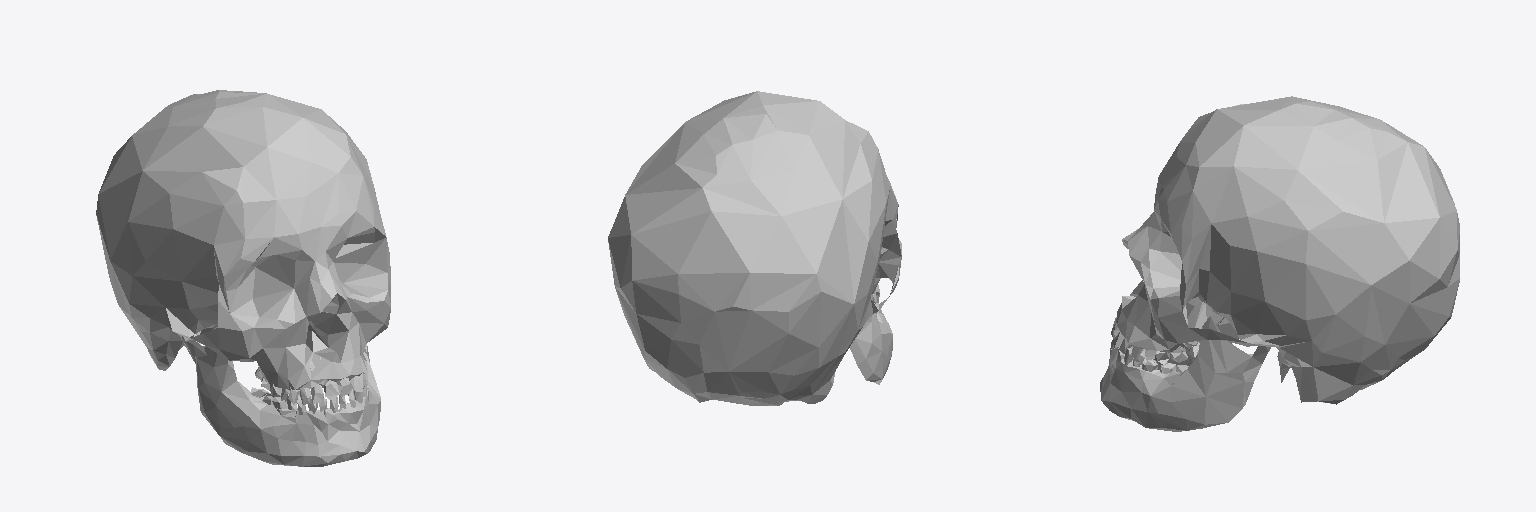
File: skull_good.obj
The picture shows the model from 3 angles: view 1: azimuth 30°, elevation 25°; view 2: azimuth 150°, elevation 25°; view 3: azimuth 270°, elevation 25°; orthographic projection.
Parts seen in each view (by area): view 1: skull:Object__0; view 2: skull:Object__0; view 3: skull:Object__0.
Part boxes in pixels (x1,y1,x2,y2): skull:Object__0: (96,90,390,466); skull:Object__0: (608,91,901,405); skull:Object__0: (1100,96,1459,431).
Size of the model in its own units: 0.6272 by 0.7719 by 0.8453.